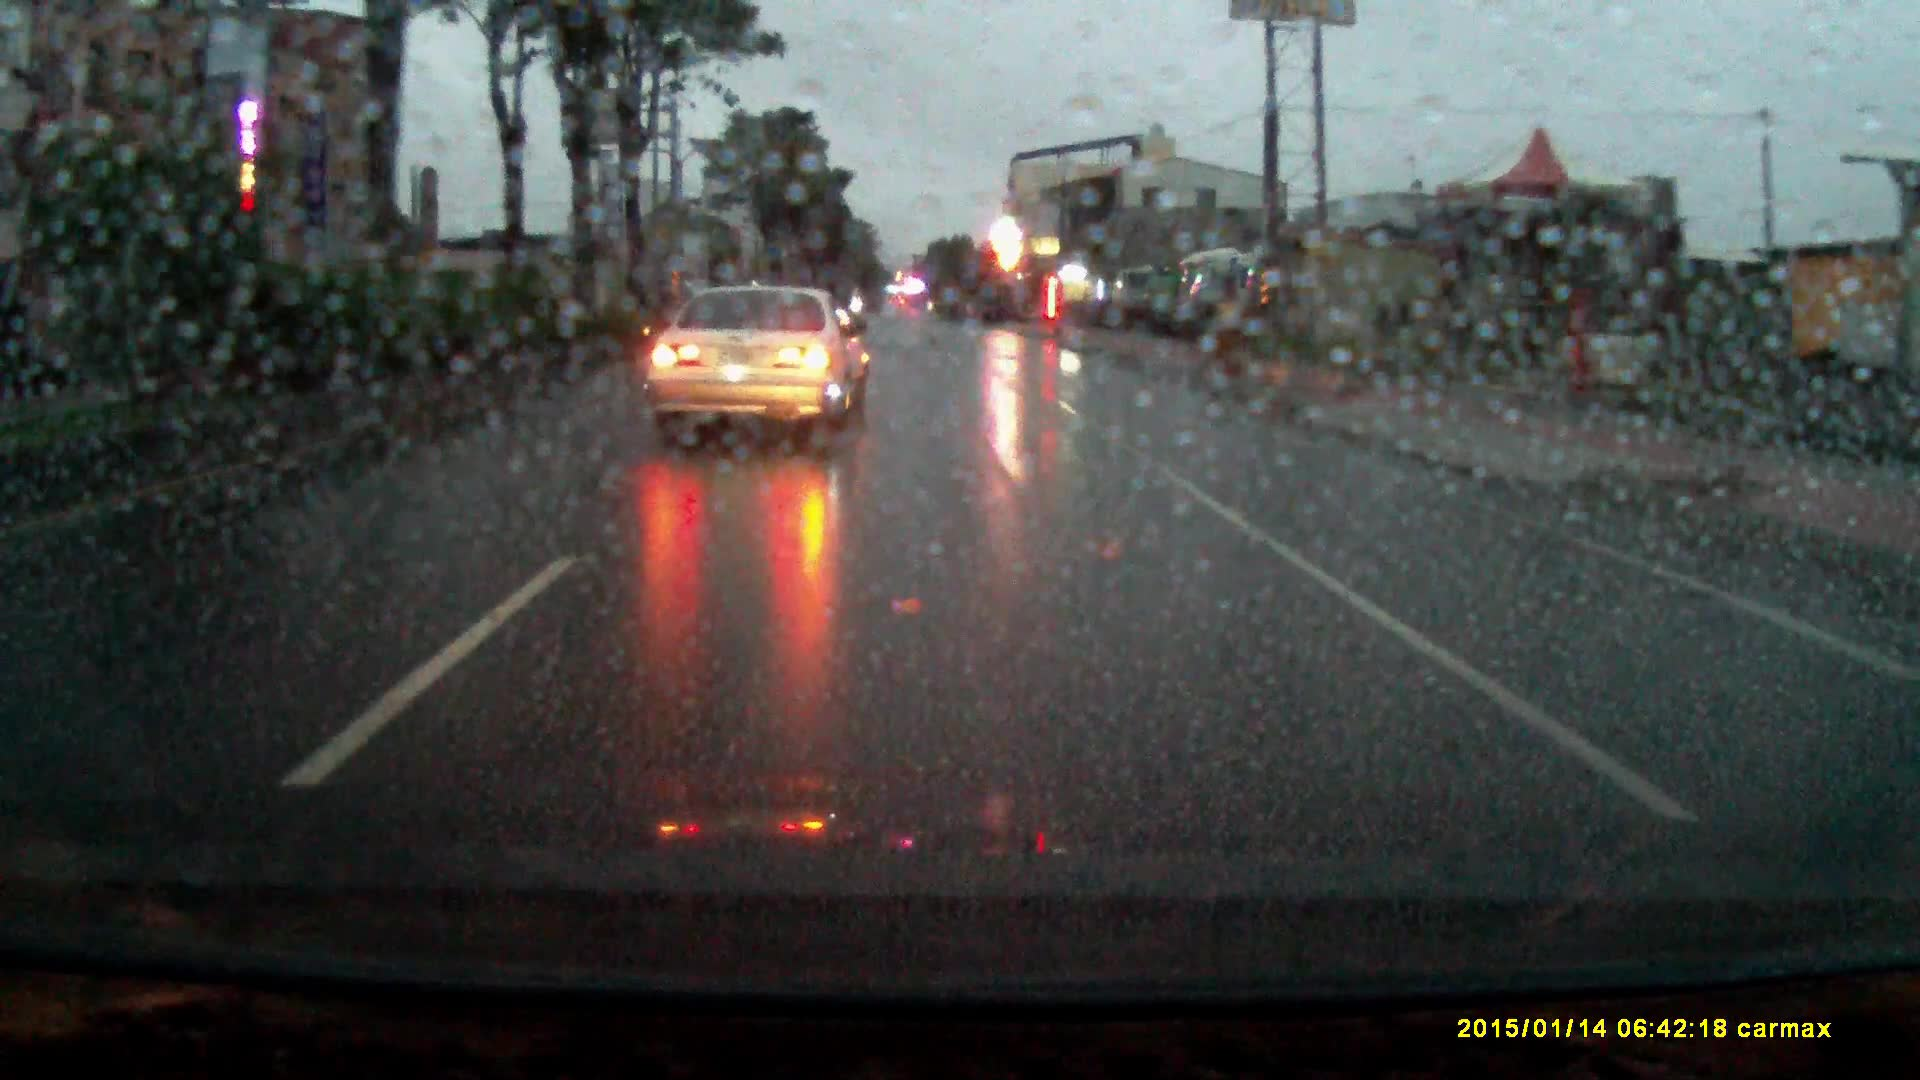vehicle: (644, 287, 877, 452), (1178, 256, 1257, 344), (1112, 270, 1162, 331)
